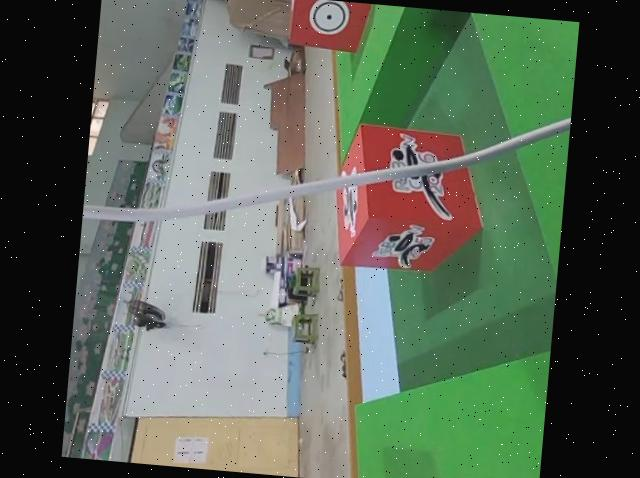R1: (329, 123, 493, 276)
R2 Real: (284, 0, 375, 53)
